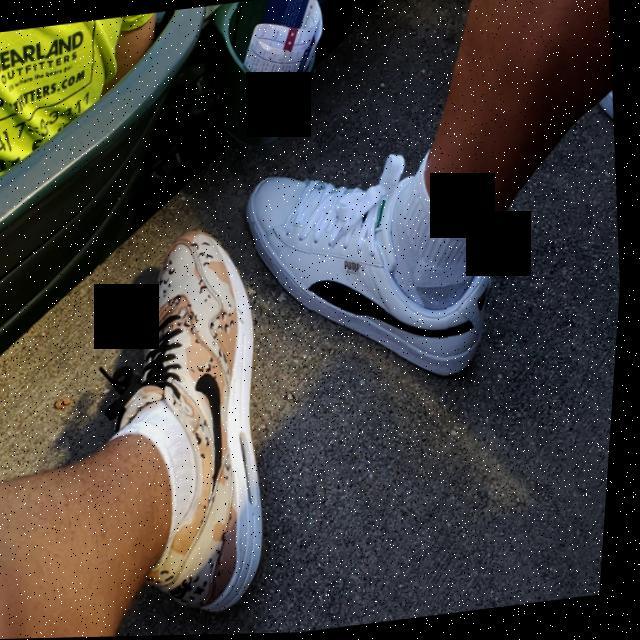shoe: (78, 222, 299, 634), (231, 142, 513, 406)
